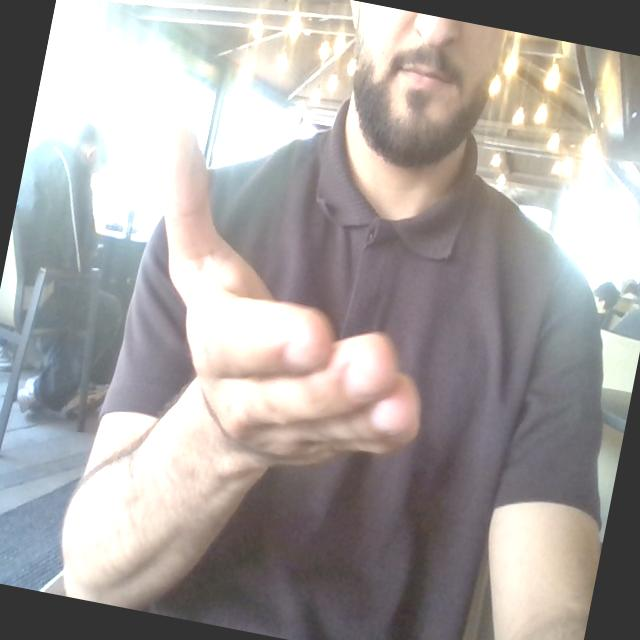Hand: (165, 121, 419, 464)
